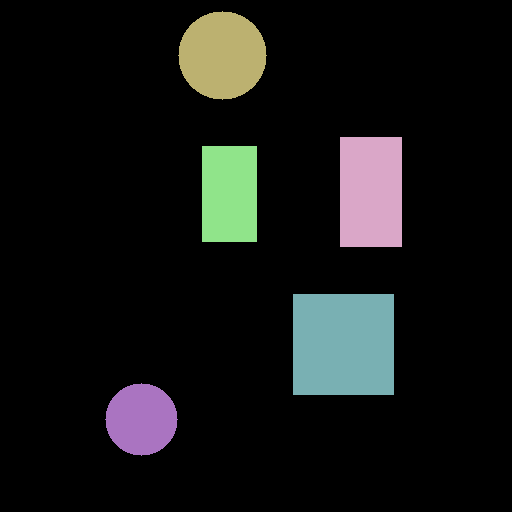circle: (178, 11, 266, 99), (105, 383, 177, 455)
rectangle: (340, 137, 401, 246), (202, 146, 256, 241)
square: (293, 294, 393, 394)
